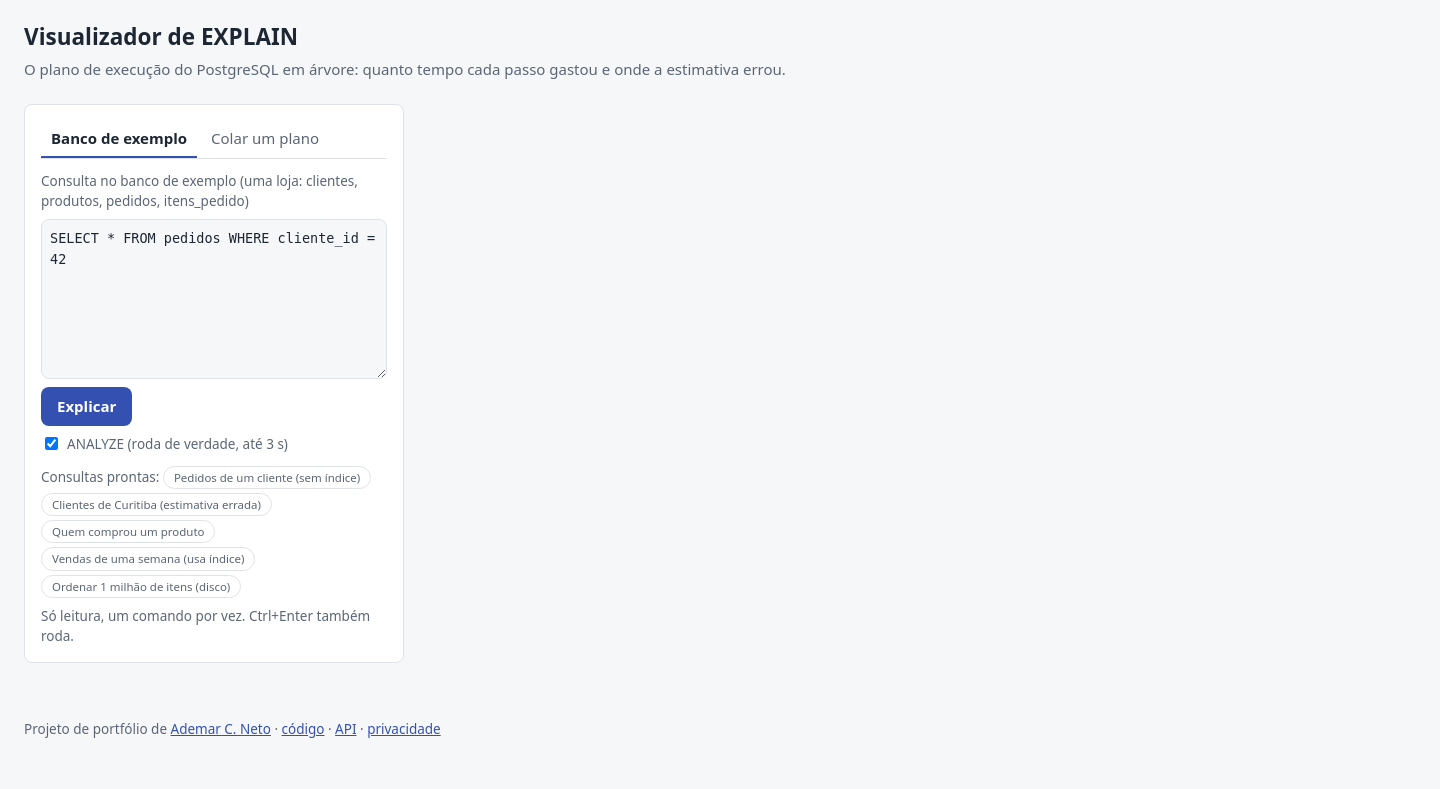
Test case: tela de colar plano › o exemplo carrega a árvore; JSON ruim mostra o que fazer
Click the tab "Colar um plano" at (265, 140), box [201,121,329,158]
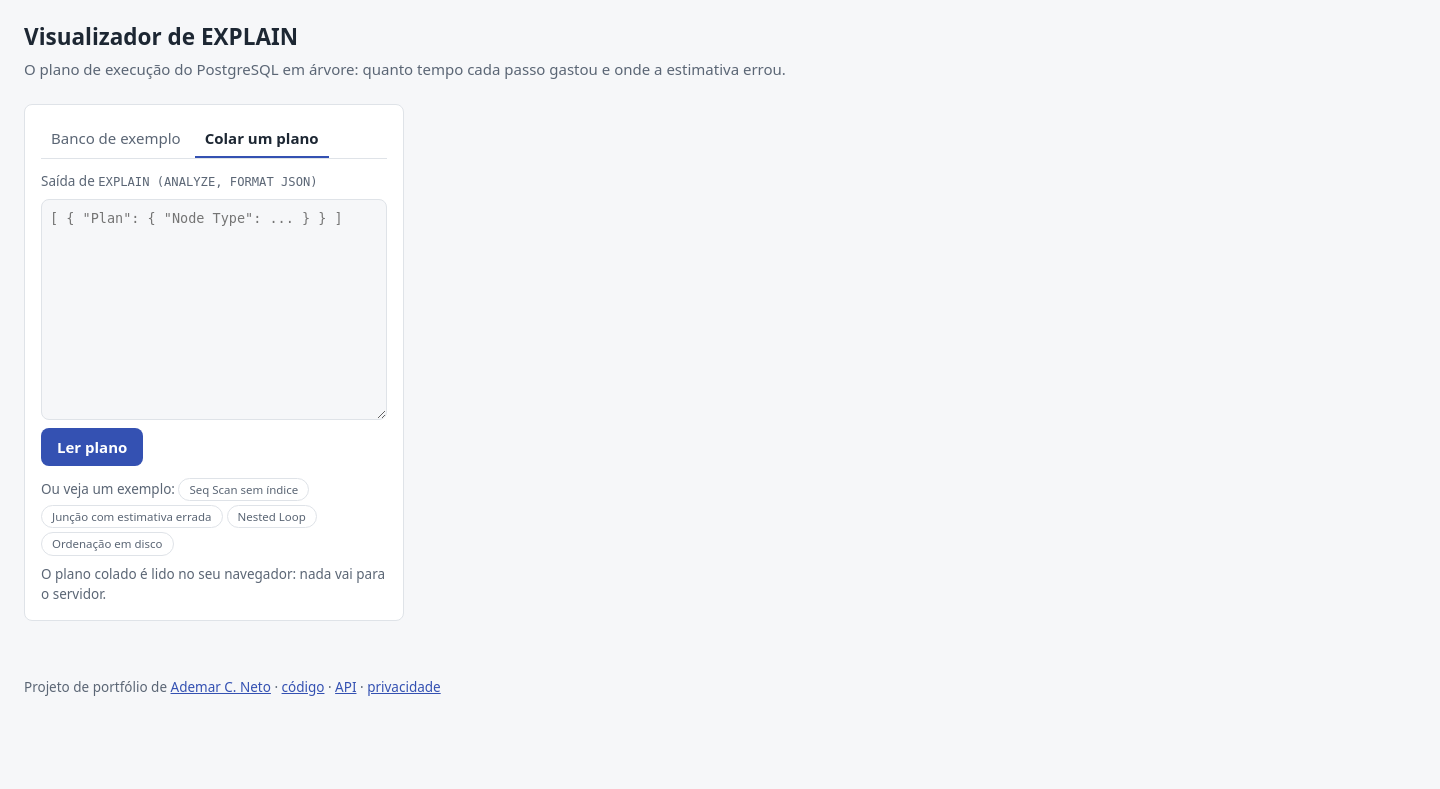
Click the button with class "chip" showing "Junção com estimativa errada" at (132, 517), box [41,505,222,528]
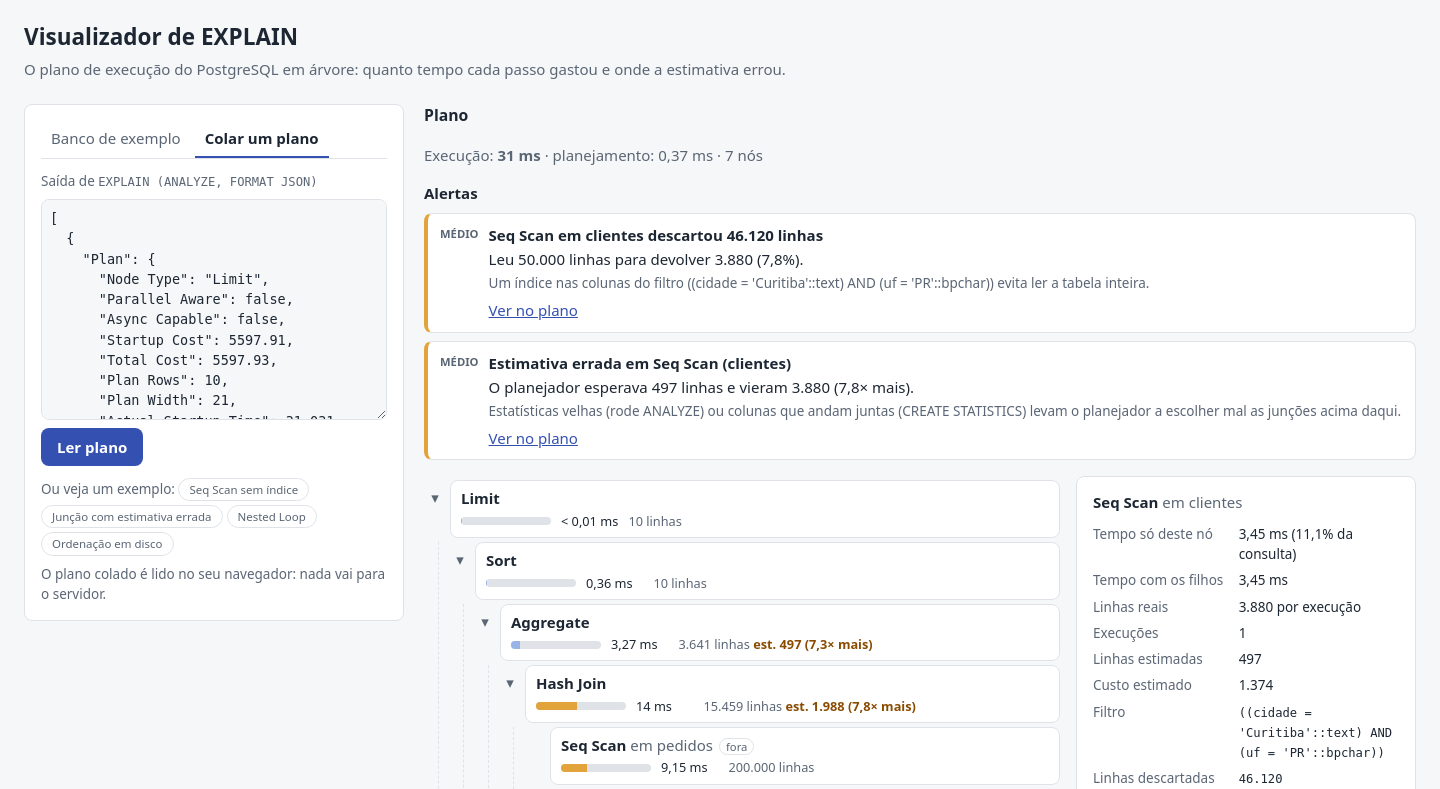
Expected: the number of buttons with class "cartao" is 7
Expected: the element with class "resumo" reads "Execução: 31 ms · planejamento: 0,37 ms · 7 nós", [424,145,763,165]
Replace the text in the text box labelled "Saída de EXPLAIN (ANALYZE, FORMAT JSON)" with "Seq Scan on pedidos  (cost=0.00..4173.00 rows=67 width=32)" at (214, 309), box [41,199,387,420]
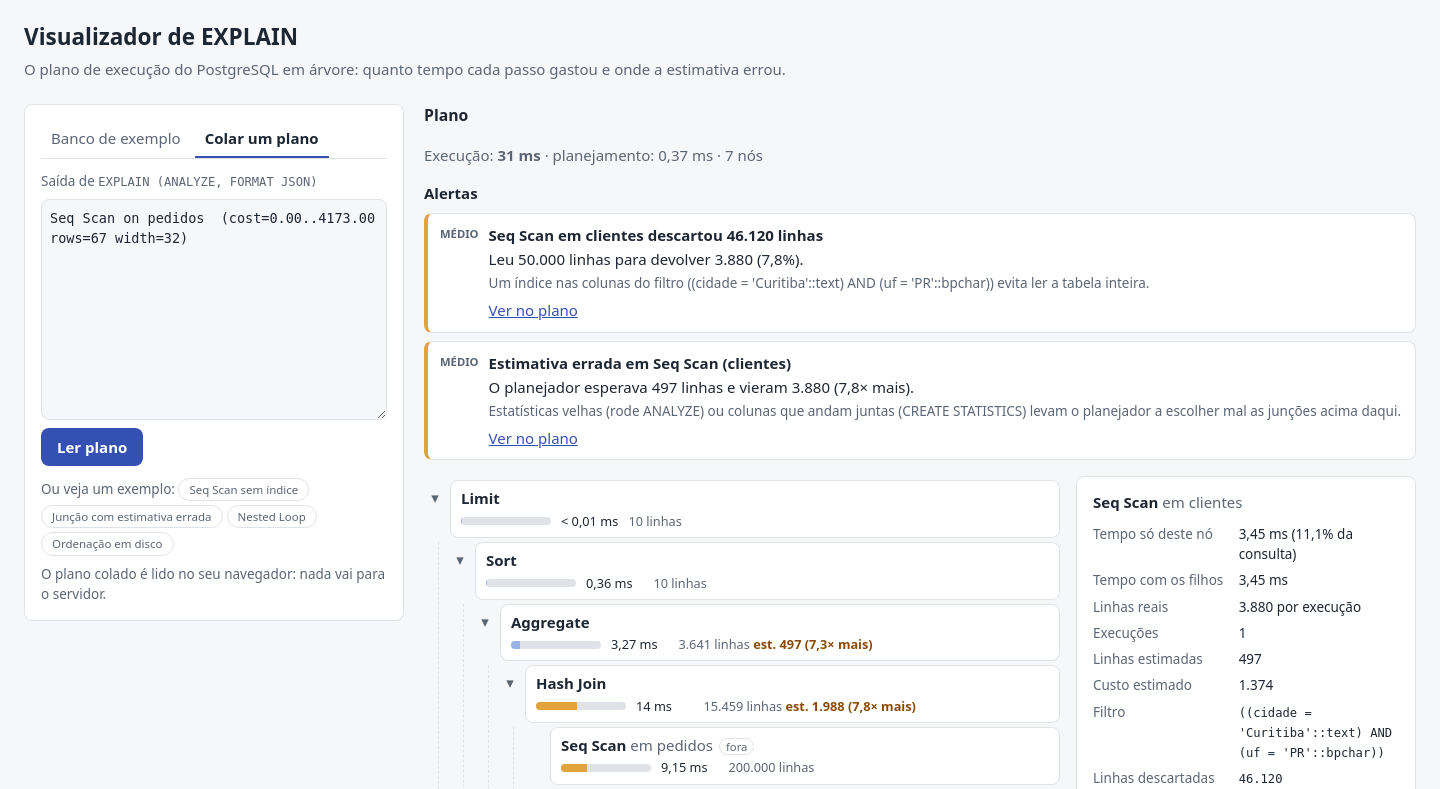
Click the button "Ler plano" at (92, 447), box [41,428,143,466]
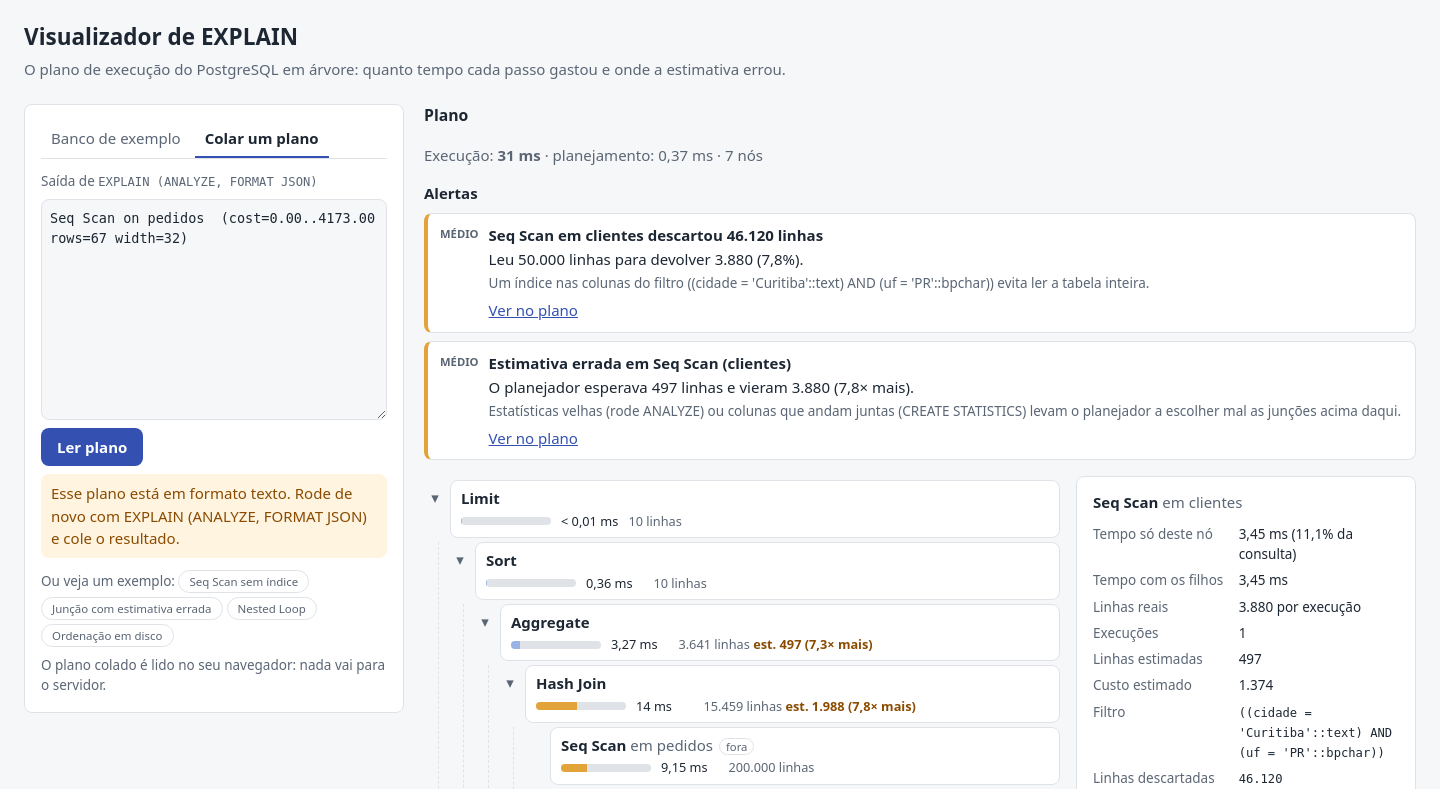
Expected: the message shows "formato texto", [51,483,367,548]
